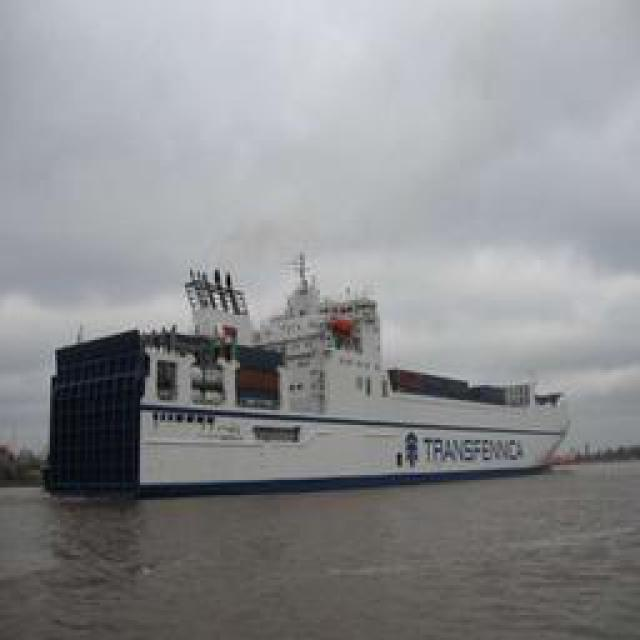Ship: (110, 261, 580, 491)
